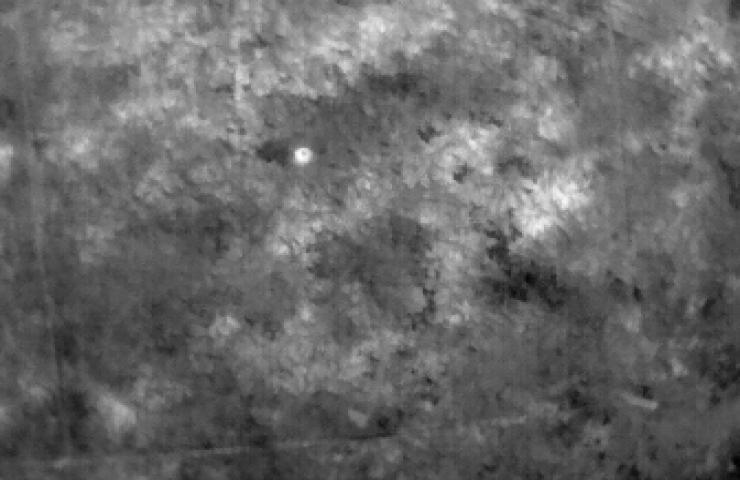landmines: (293, 146, 316, 168)
